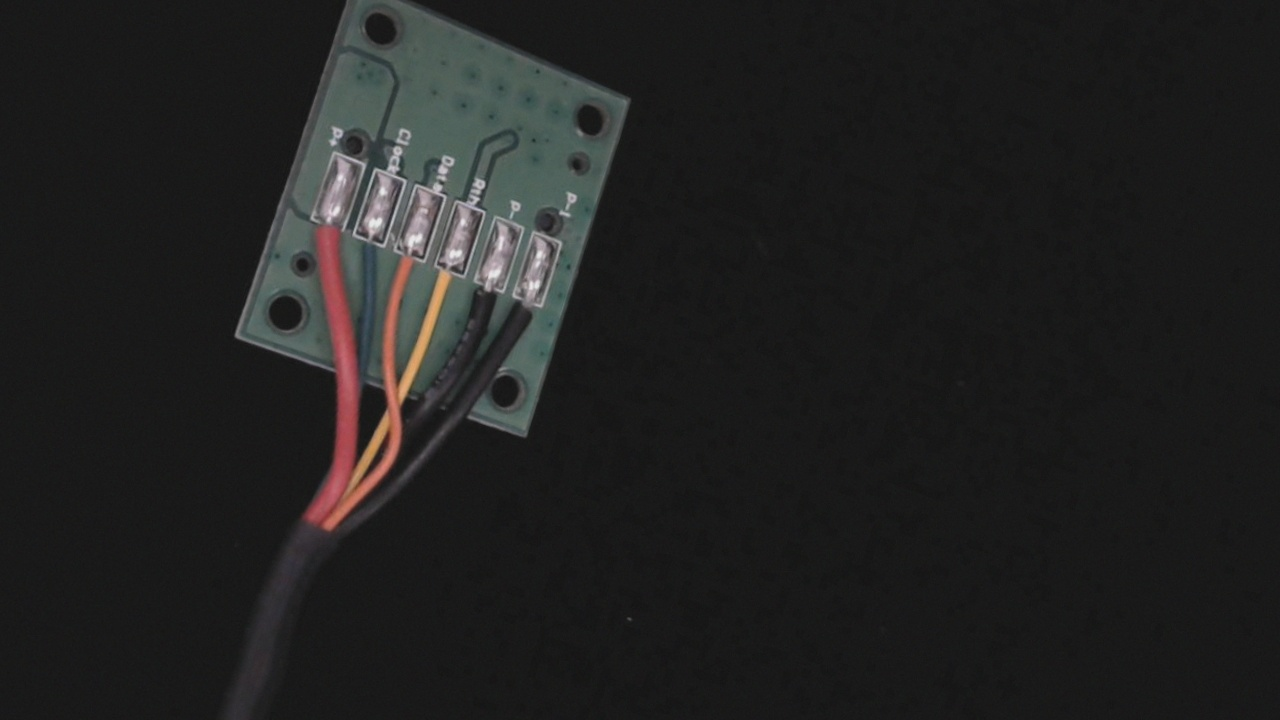Black: (452, 257, 513, 346)
Black1: (496, 276, 554, 359)
Green: (342, 209, 395, 284)
Orange: (377, 226, 436, 314)
Red: (296, 198, 349, 274)
Yellow: (414, 241, 476, 332)
